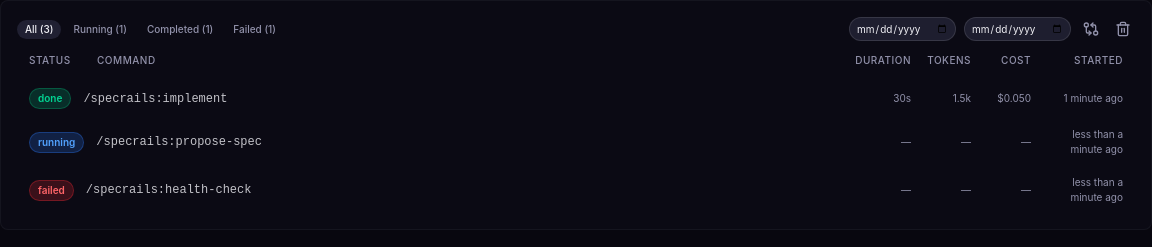
Test: RecentJobs › clicking status filter shows only matching jobs
What coordinates should you click on to do the following:
click the button "completed (1)"
I would click on:
 (180, 29)
Its box is [139, 20, 221, 38].
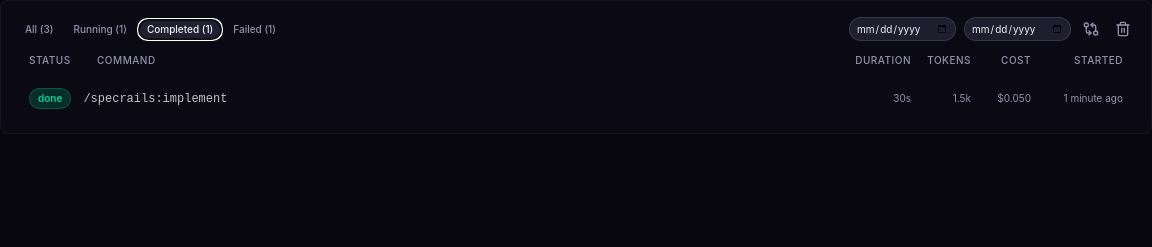
Check: the text "/specrails:implement" is shown, box [83, 90, 227, 106]
Check: the button "/specrails:propose-spec" is gone
Check: the button "/specrails:health-check" is gone
